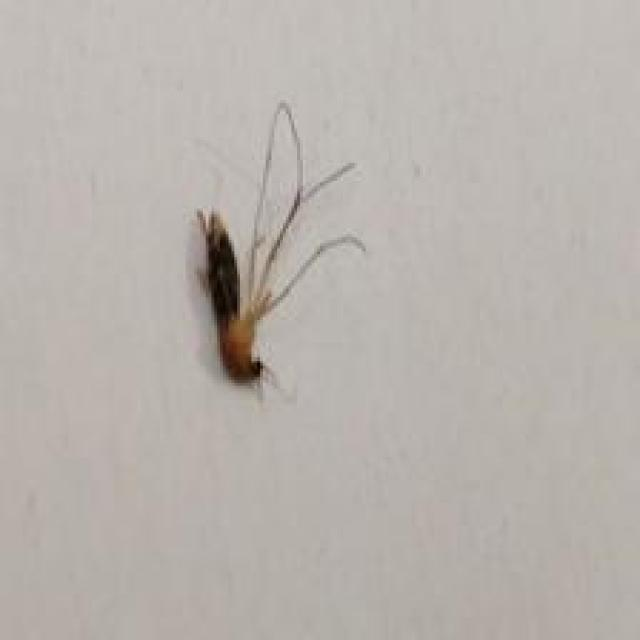Culex: (192, 100, 368, 403)
